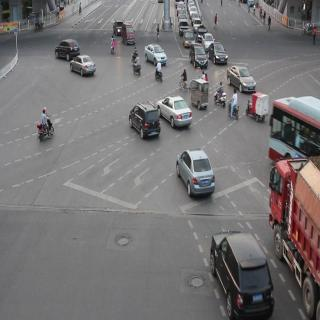BigCar: (269, 148, 320, 288), (267, 82, 320, 166)
Car: (206, 219, 273, 315), (175, 145, 223, 203), (151, 74, 188, 135), (121, 89, 159, 146), (144, 36, 173, 77), (226, 63, 254, 102), (68, 55, 100, 81), (187, 44, 213, 73), (119, 18, 140, 53), (249, 90, 266, 129), (193, 70, 206, 120), (53, 34, 79, 58), (214, 40, 230, 67), (112, 10, 124, 45)
